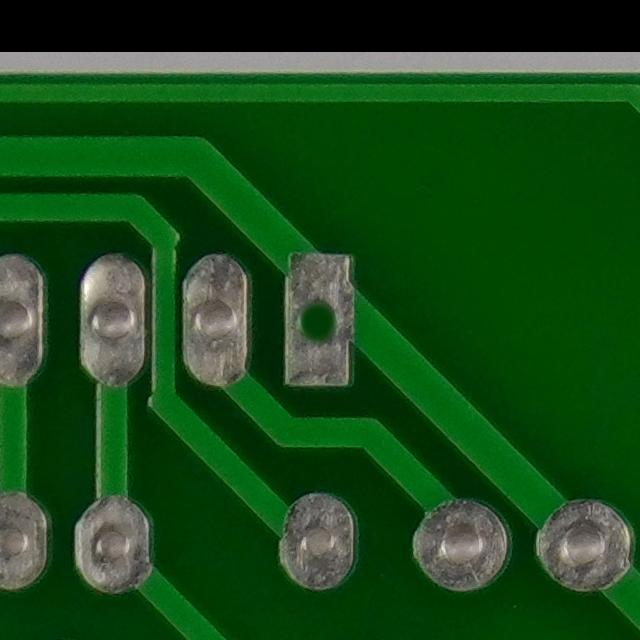missing_hole: (272, 274, 369, 366)
